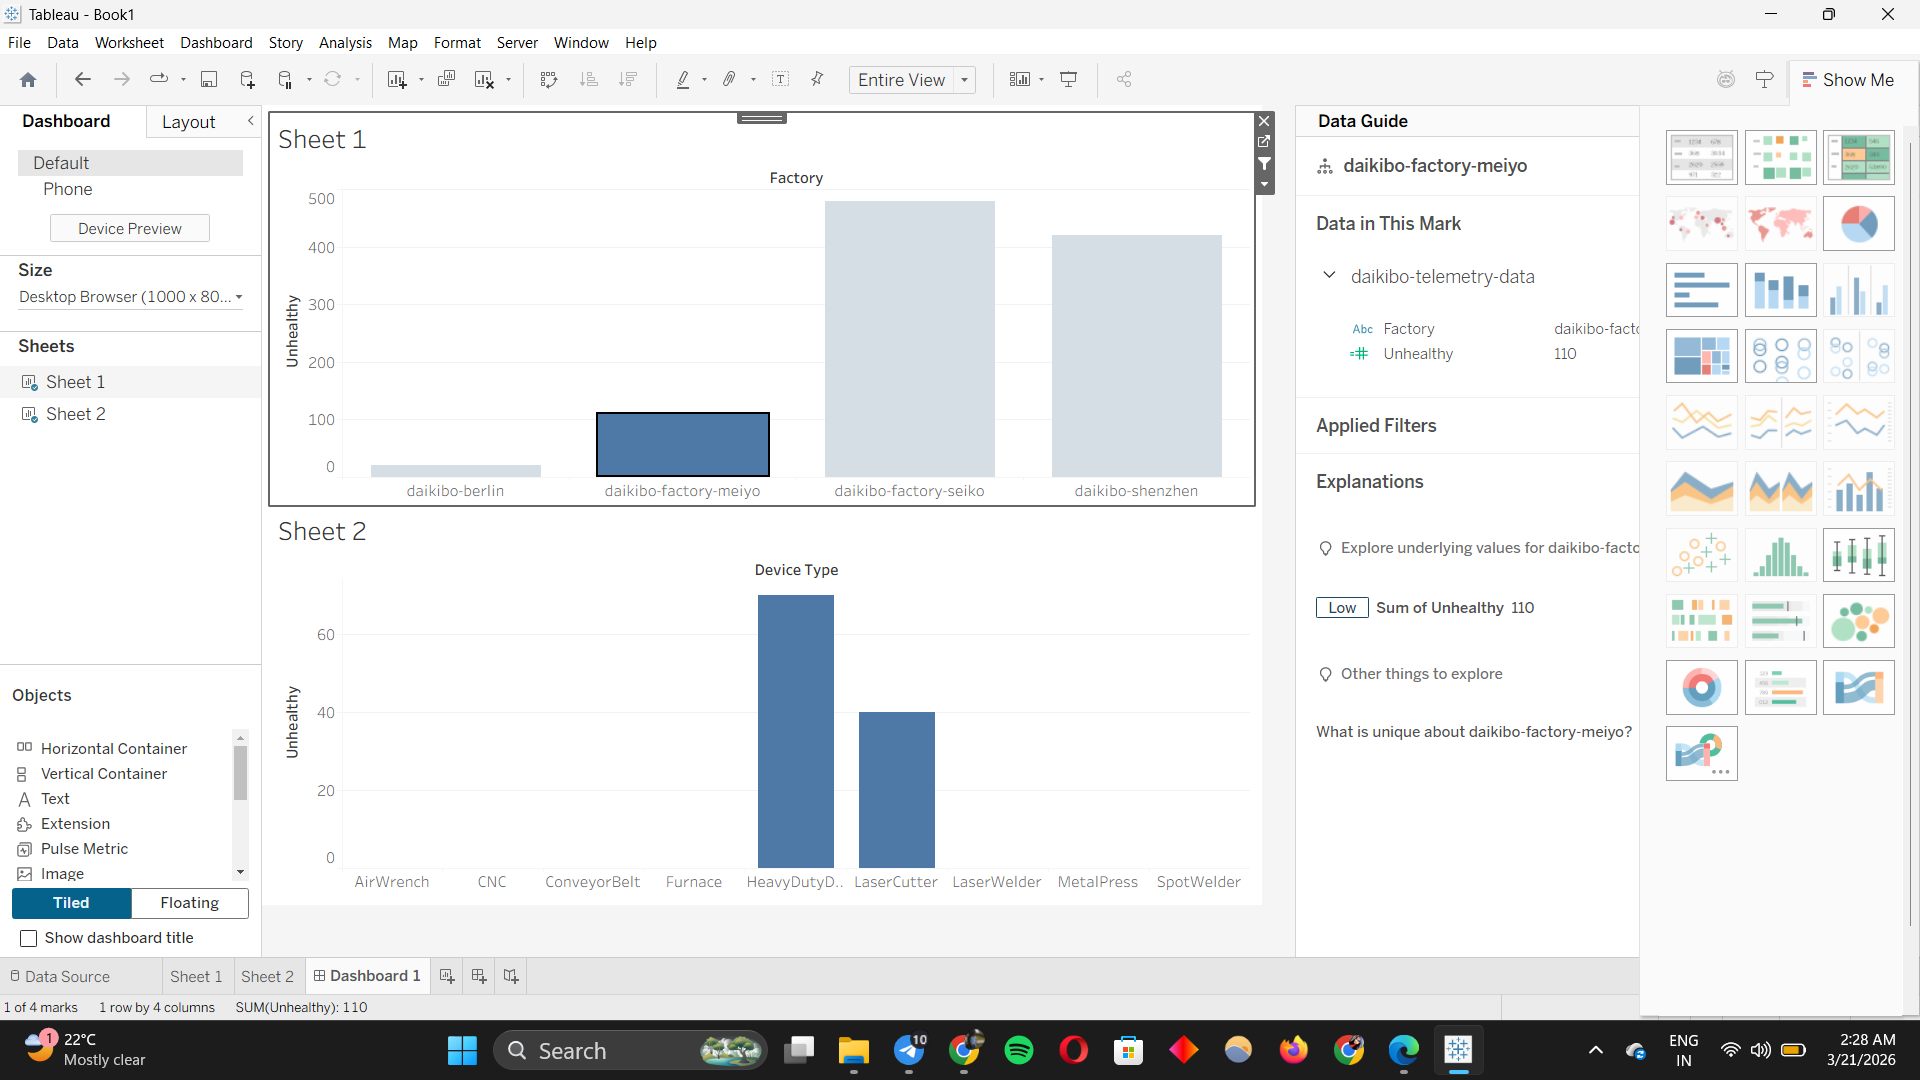

The page's visual inventory and layout, read from the dashboard file:
{"tool":"tableau","page":{"name":"Dashboard 1","canvas":[1000,800],"ordinal":0},"visuals":[{"type":"worksheet","title":"Sheet 1","mark":"Automatic","rows":["Calculation_0811215308914688"],"cols":["factory"],"box":[8,8,984,392]},{"type":"worksheet","title":"Sheet 2","mark":"Automatic","rows":["Calculation_0811215308914688"],"cols":["deviceType"],"box":[8,400,984,392]}]}

Visuals, with their boxes on the page's 1000x800 design canvas (x1, y1, x2, y2). These are canvas units, not pixel positions in the 1920x1080 screenshot, which may show the page scaled, cropped or inside an application window:
"Sheet 1" worksheet: <bbox>8, 8, 992, 400</bbox>
"Sheet 2" worksheet: <bbox>8, 400, 992, 792</bbox>
